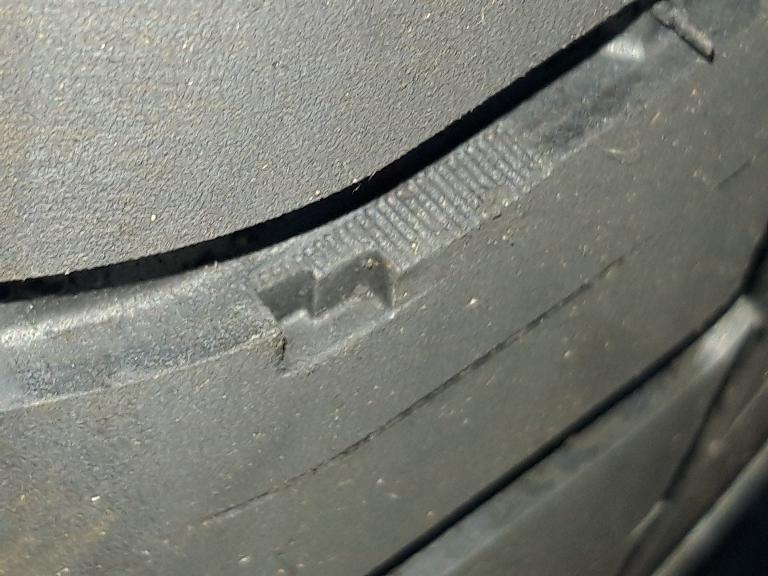temoin:50: (238, 189, 449, 387)
